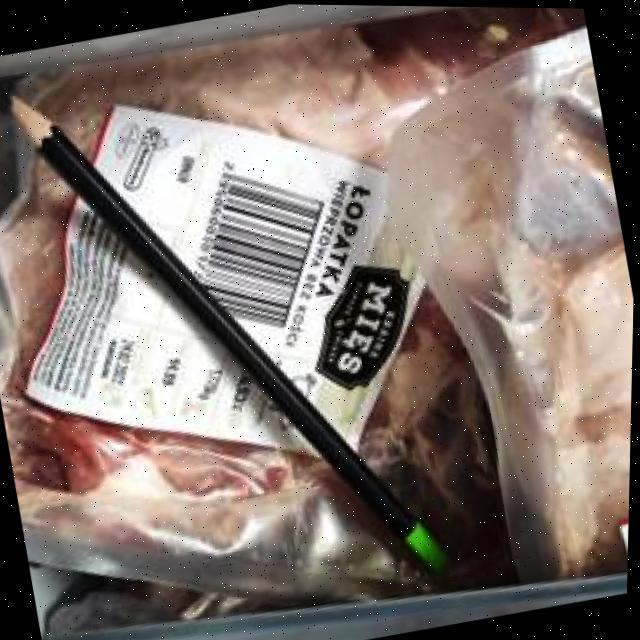pencil: (0, 80, 468, 580)
